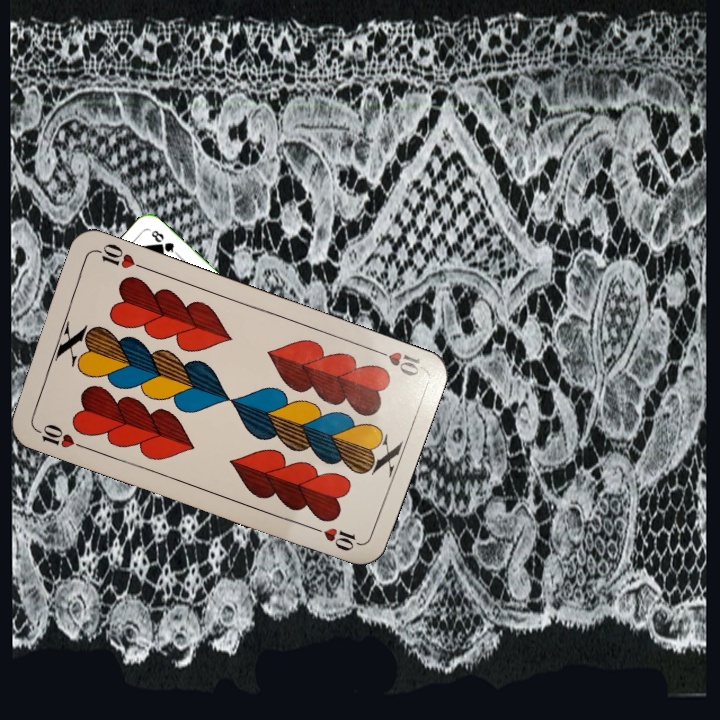H10: (367, 343, 425, 379), (30, 420, 87, 451)
